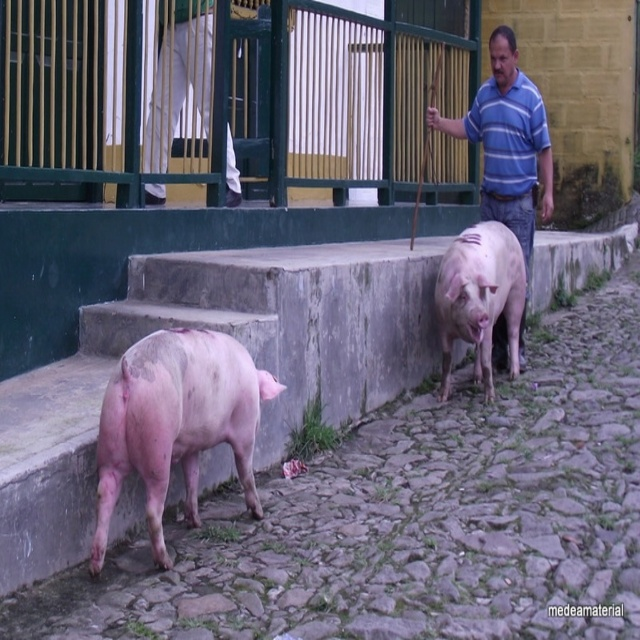Pig: (88, 327, 288, 579), (433, 219, 526, 406)
